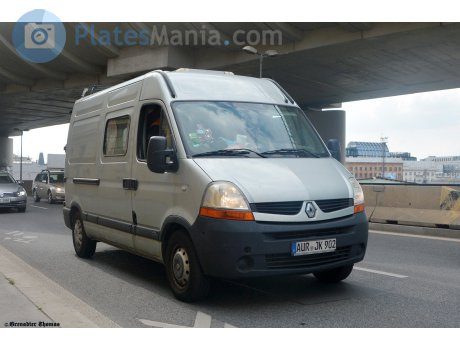License Plates: (295, 241, 334, 251)
